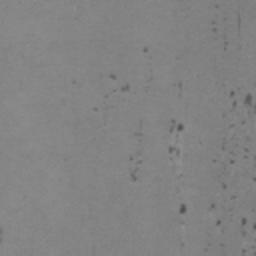Oxide scale of temperature system: (210, 88, 256, 256), (128, 115, 184, 183), (209, 1, 242, 51), (108, 72, 131, 93), (178, 202, 187, 216), (91, 105, 100, 113), (178, 79, 184, 90), (141, 45, 148, 54)
